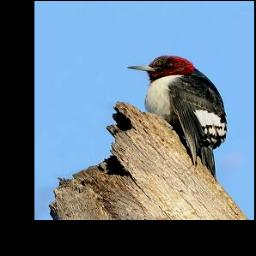Woodpecker: (126, 55, 229, 177)
